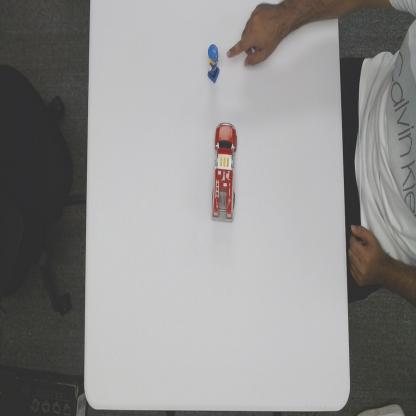Arm: (281, 0, 338, 37)
Firetruck: (212, 121, 237, 222)
Hand: (226, 2, 280, 70)
